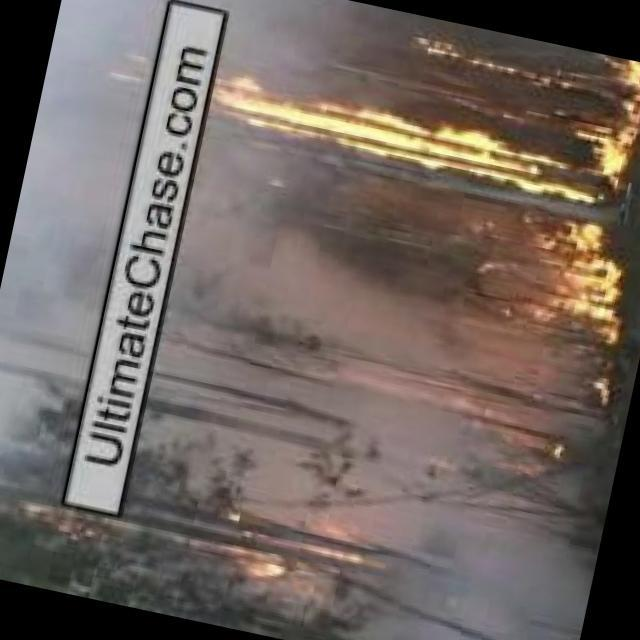Fire: (134, 34, 640, 204), (515, 210, 636, 366), (435, 395, 577, 464), (215, 514, 318, 592), (593, 53, 640, 102)
